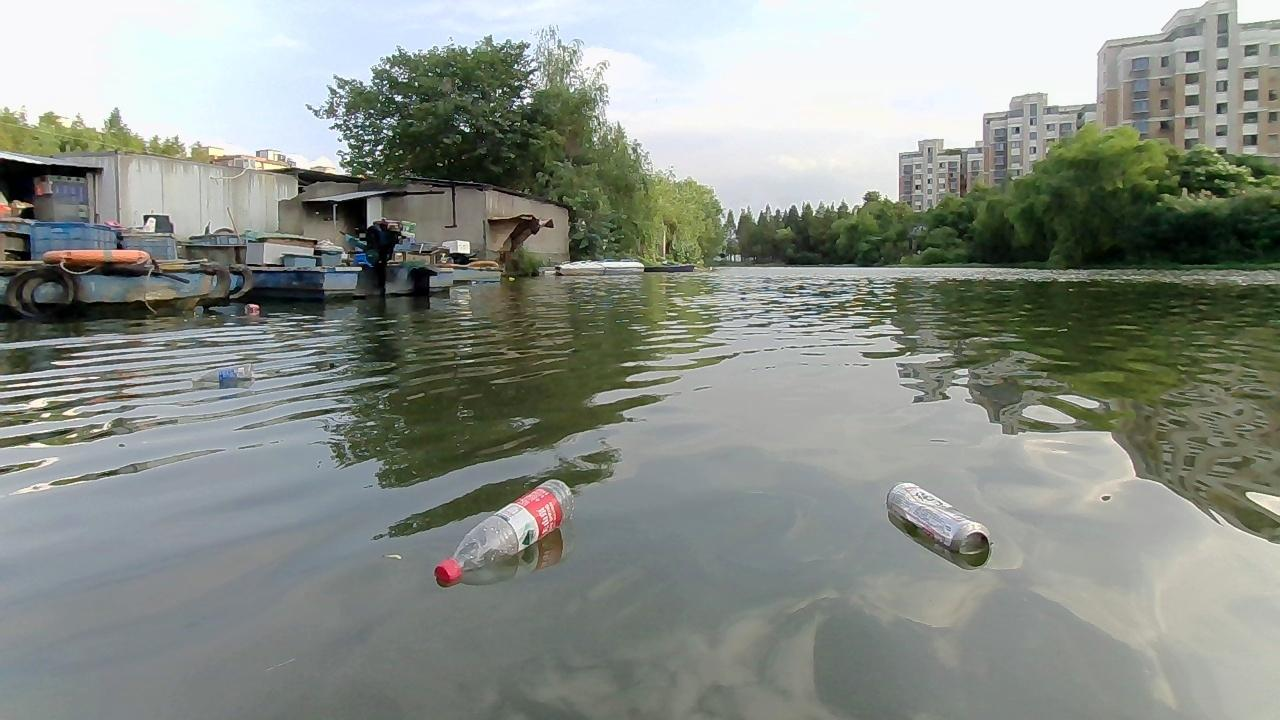Metal: (884, 480, 993, 558)
Plastic: (433, 477, 578, 585), (197, 362, 256, 383)
